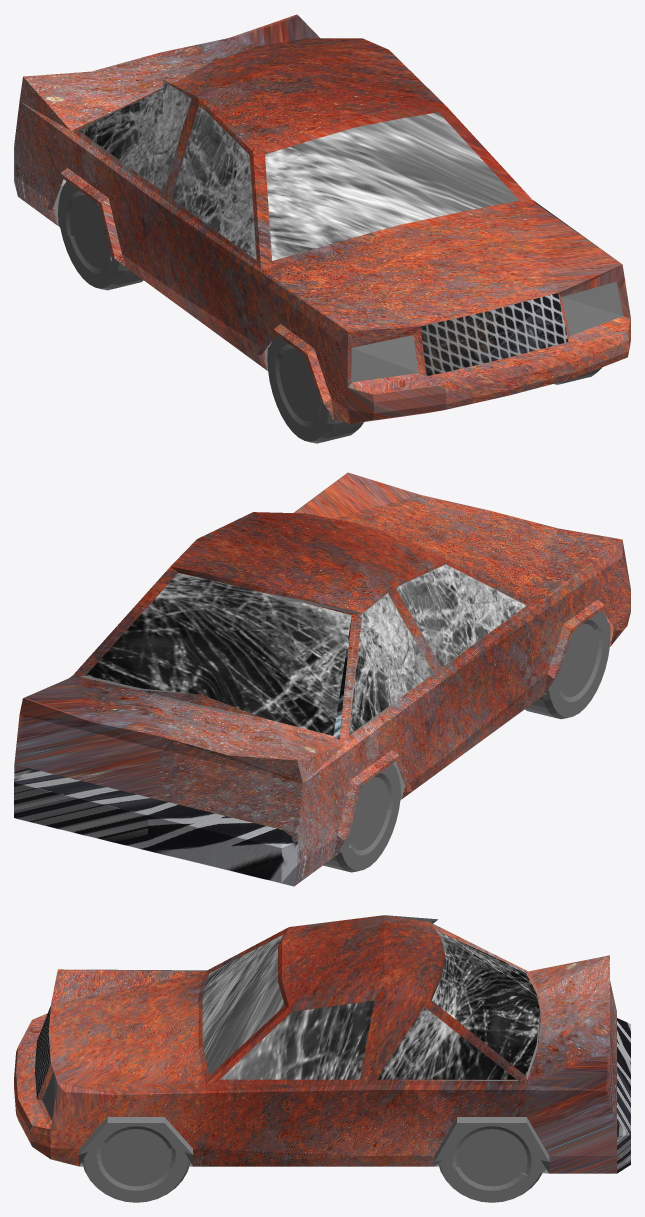
Rendered from ShittyCar_Prefab.fbx.
3 views of the same model, one above another, from view 1: azimuth 30°, elevation 25°; view 2: azimuth 150°, elevation 25°; view 3: azimuth 270°, elevation 25° (orthographic). The views are drawn at different scales.
Visible parts, largest first — view 1: Car; view 2: Car; view 3: Car.
Boxes of the visible parts, x1,y1,x2,y2 form: Car: (14, 14, 630, 443); Car: (14, 472, 630, 886); Car: (14, 915, 630, 1202).
Bounding box in the file's own units: 2.1 × 4.44 × 1.59.
